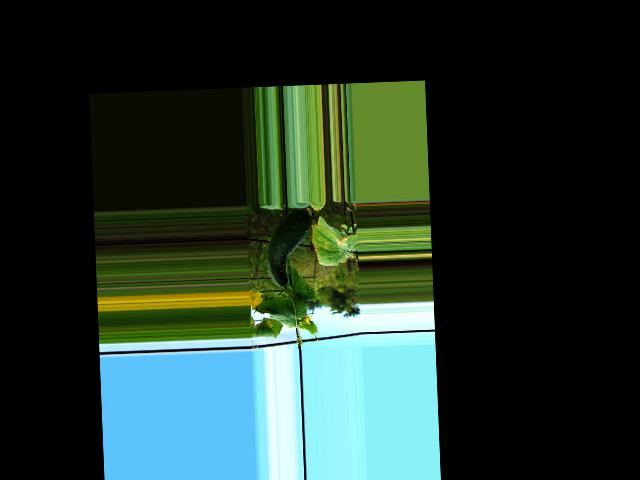cucumber: (265, 209, 314, 288)
